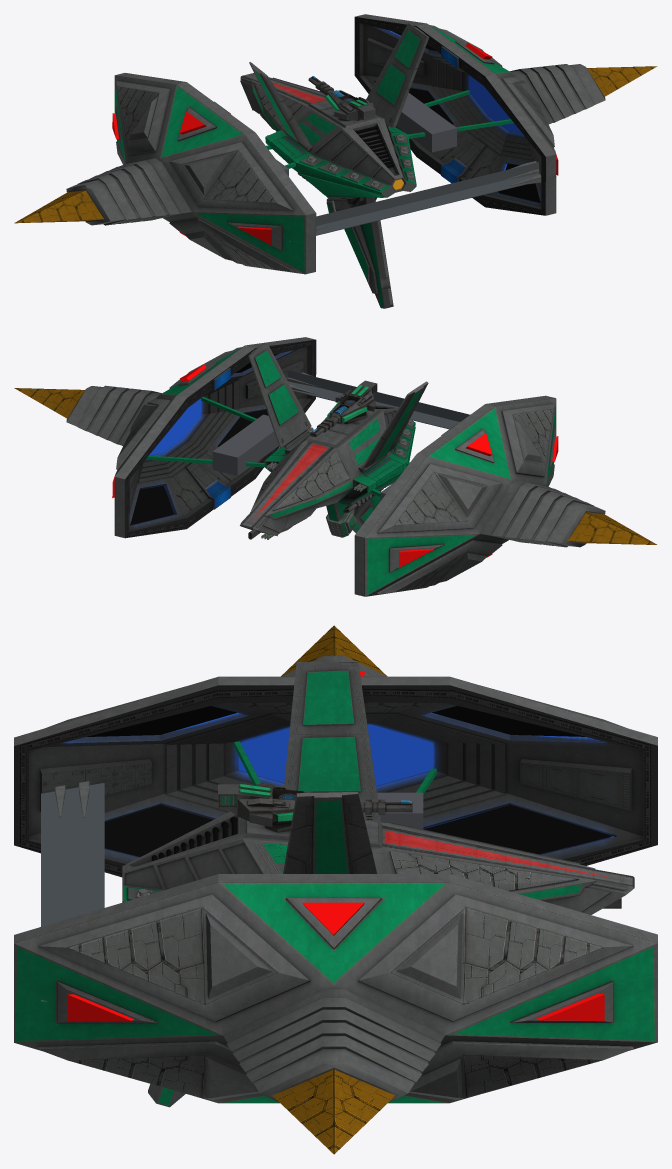
File: tektron.glb
The picture shows the model from 3 angles, top to bottom: view 1: azimuth 30°, elevation 25°; view 2: azimuth 150°, elevation 25°; view 3: azimuth 270°, elevation 25°; orthographic projection. The views are drawn at different scales.
Parts seen in each view (by area): view 1: L_dome, R_dome, body, sparks, R_fin, Bot_fin, R_wing, L_tip, turret02_arms, L_fin, R_tip, pipes; view 2: L_dome, R_dome, body, R_fin, R_wing, sparks, L_tip, turret02_arms, L_fin, R_tip, Bot_fin, turret09; view 3: R_dome, L_dome, body, L_fin, sparks, R_fin, R_tip, turret02_arms, L_wing, L_tip, R_weakpoint01, R_weakpoint02 (+1 smaller).
Boxes of the visible parts, x1,y1,x2,y2 form: L_dome: (66, 73, 327, 274); R_dome: (354, 14, 605, 215); body: (240, 73, 416, 200); sparks: (289, 162, 540, 241); R_fin: (366, 23, 429, 128); Bot_fin: (334, 197, 393, 308); R_wing: (396, 90, 513, 152); L_tip: (14, 190, 103, 223); turret02_arms: (308, 76, 375, 120); L_fin: (249, 62, 312, 150); R_tip: (587, 66, 657, 96); pipes: (355, 125, 394, 167); L_dome: (354, 395, 605, 596); R_dome: (66, 337, 320, 538); body: (240, 405, 415, 536); R_fin: (248, 342, 311, 451); R_wing: (146, 396, 278, 475); sparks: (288, 370, 469, 429); L_tip: (568, 512, 656, 544); turret02_arms: (310, 380, 377, 437); L_fin: (362, 381, 428, 471); R_tip: (14, 388, 84, 418); Bot_fin: (326, 491, 381, 532); turret09: (326, 508, 356, 537); R_dome: (14, 874, 657, 1103); L_dome: (14, 655, 657, 877); body: (122, 811, 634, 914); L_fin: (284, 662, 381, 822); sparks: (41, 783, 104, 1001); R_fin: (283, 792, 377, 873); R_tip: (272, 1069, 395, 1154); turret02_arms: (218, 783, 412, 826); L_wing: (234, 741, 436, 829); L_tip: (281, 625, 387, 676); R_weakpoint01: (302, 902, 364, 935); R_weakpoint02: (536, 993, 604, 1020).
Size of the model in its own units: 4.41 by 1.46 by 2.27.
Materials: 9 (5 with a texture image).
